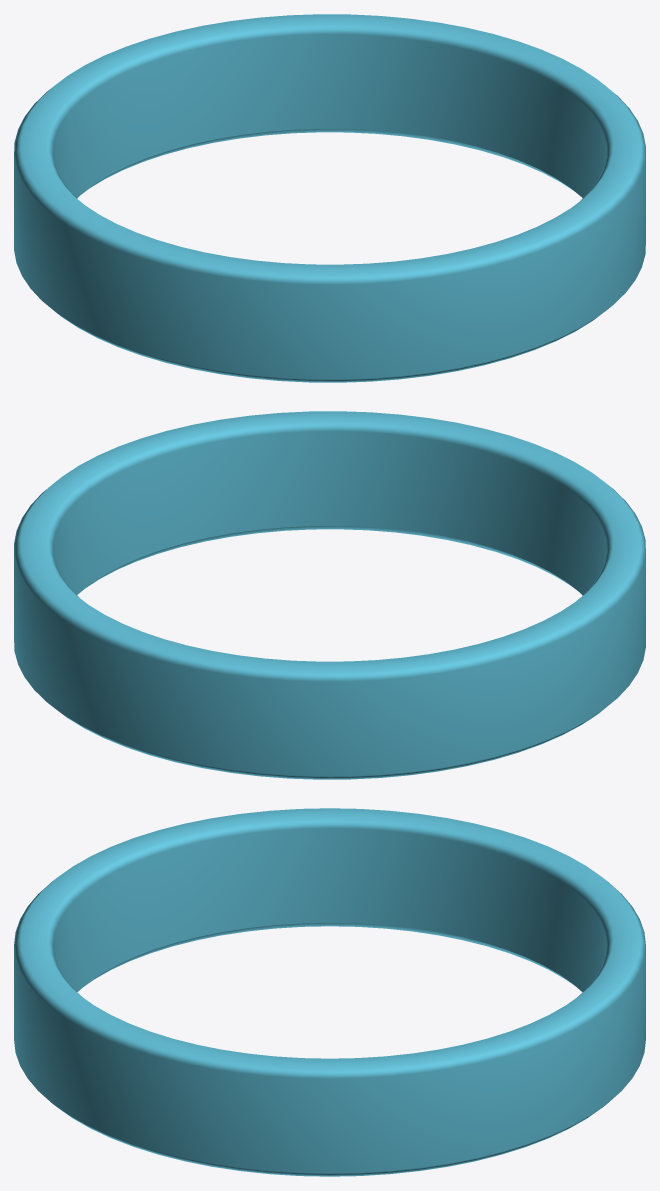
3 views of the same model, one above another, from view 1: azimuth 30°, elevation 25°; view 2: azimuth 150°, elevation 25°; view 3: azimuth 270°, elevation 25° (orthographic).
Parts seen in each view (by area): view 1: seal_body; view 2: seal_body; view 3: seal_body.
Part boxes in pixels (left/top/right/bottom): seal_body: left=14, top=14, right=645, bottom=382; seal_body: left=14, top=411, right=645, bottom=779; seal_body: left=14, top=808, right=645, bottom=1176.
Bounding box in the file's own units: 0.0508 × 0.00952 × 0.0508.
